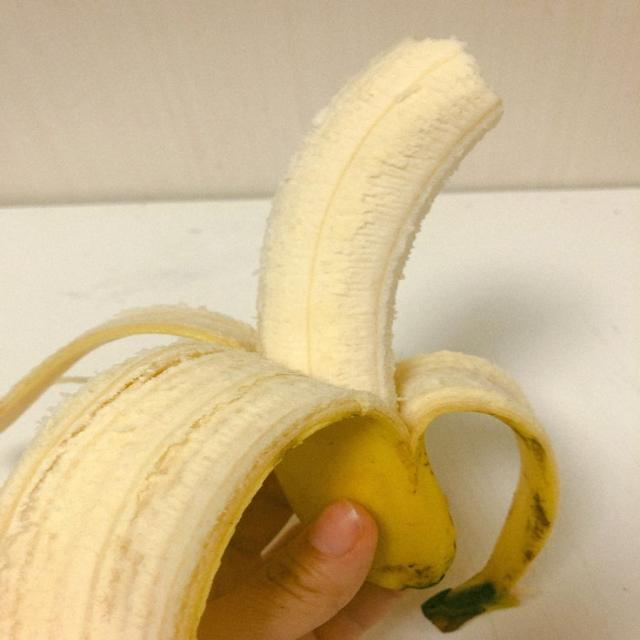banana: (0, 41, 557, 639)
